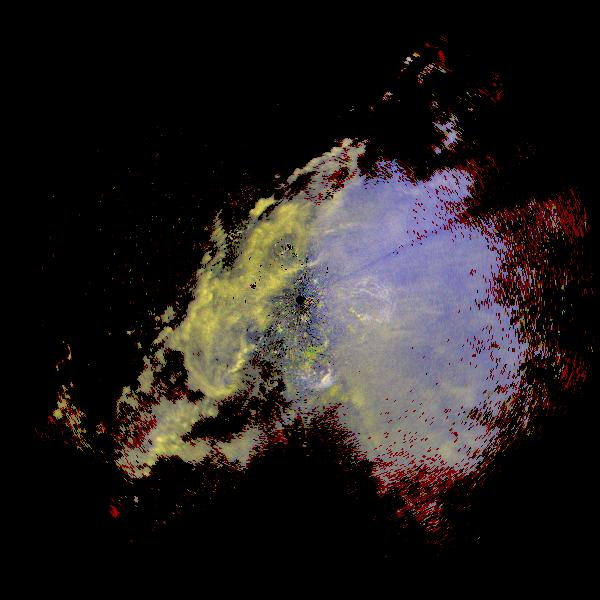roost: (311, 264, 404, 357), (273, 338, 342, 407), (444, 440, 468, 464)
